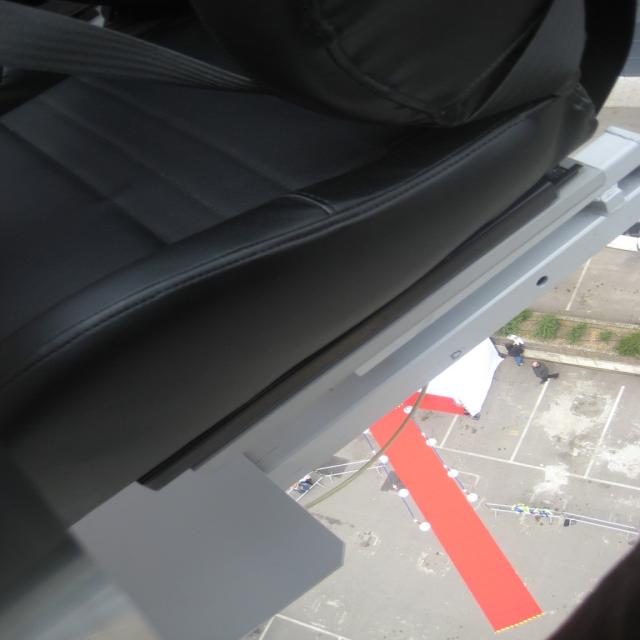car: (0, 13, 608, 616)
